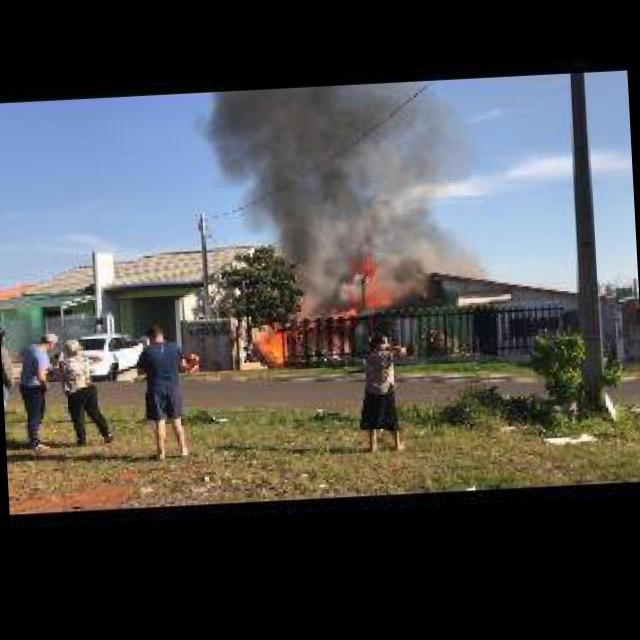fire: (268, 331, 288, 364), (331, 305, 356, 315)
smoke: (278, 79, 486, 308), (196, 89, 282, 241)
